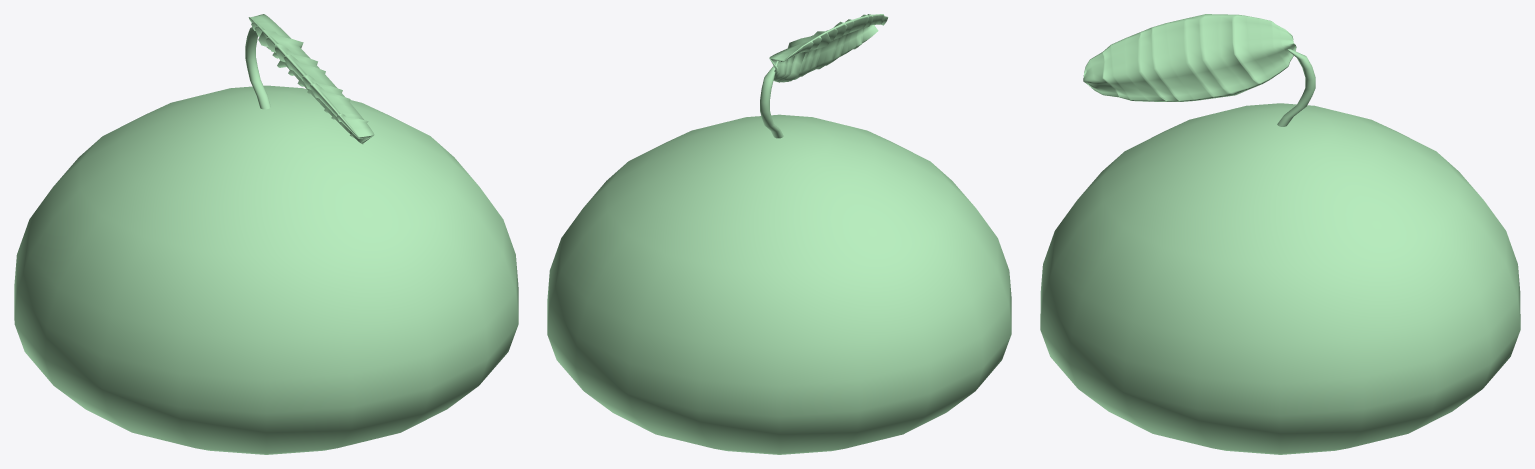
File: Slime_grass_model.fbx
3 views of the same model, side by side, from view 1: azimuth 30°, elevation 25°; view 2: azimuth 150°, elevation 25°; view 3: azimuth 270°, elevation 25° (orthographic). The views are drawn at different scales.
Visible parts, largest first — view 1: slime_normal:curve2; view 2: slime_normal:curve2; view 3: slime_normal:curve2.
Boxes of the visible parts, <box> form: slime_normal:curve2: <box>14,14,518,454</box>; slime_normal:curve2: <box>547,14,1011,454</box>; slime_normal:curve2: <box>1040,14,1520,454</box>.
Bounding box in the file's own units: 2.48 × 2.16 × 2.44.
